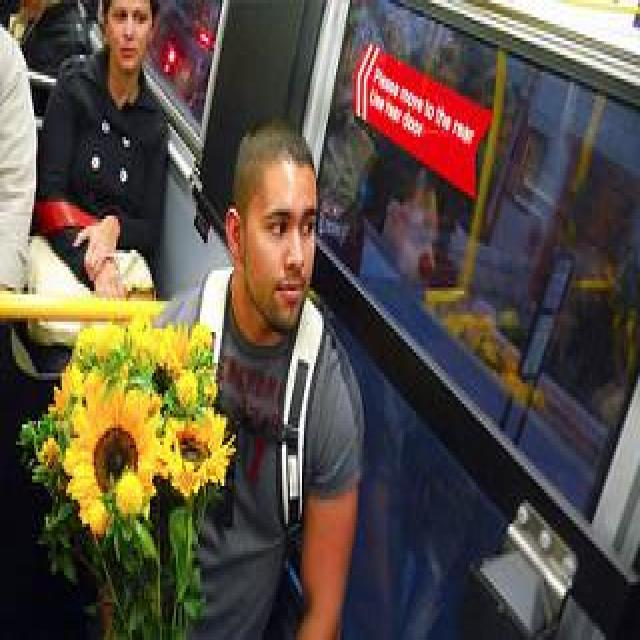sunflower: (66, 384, 156, 532), (158, 408, 236, 497), (137, 336, 195, 405)
